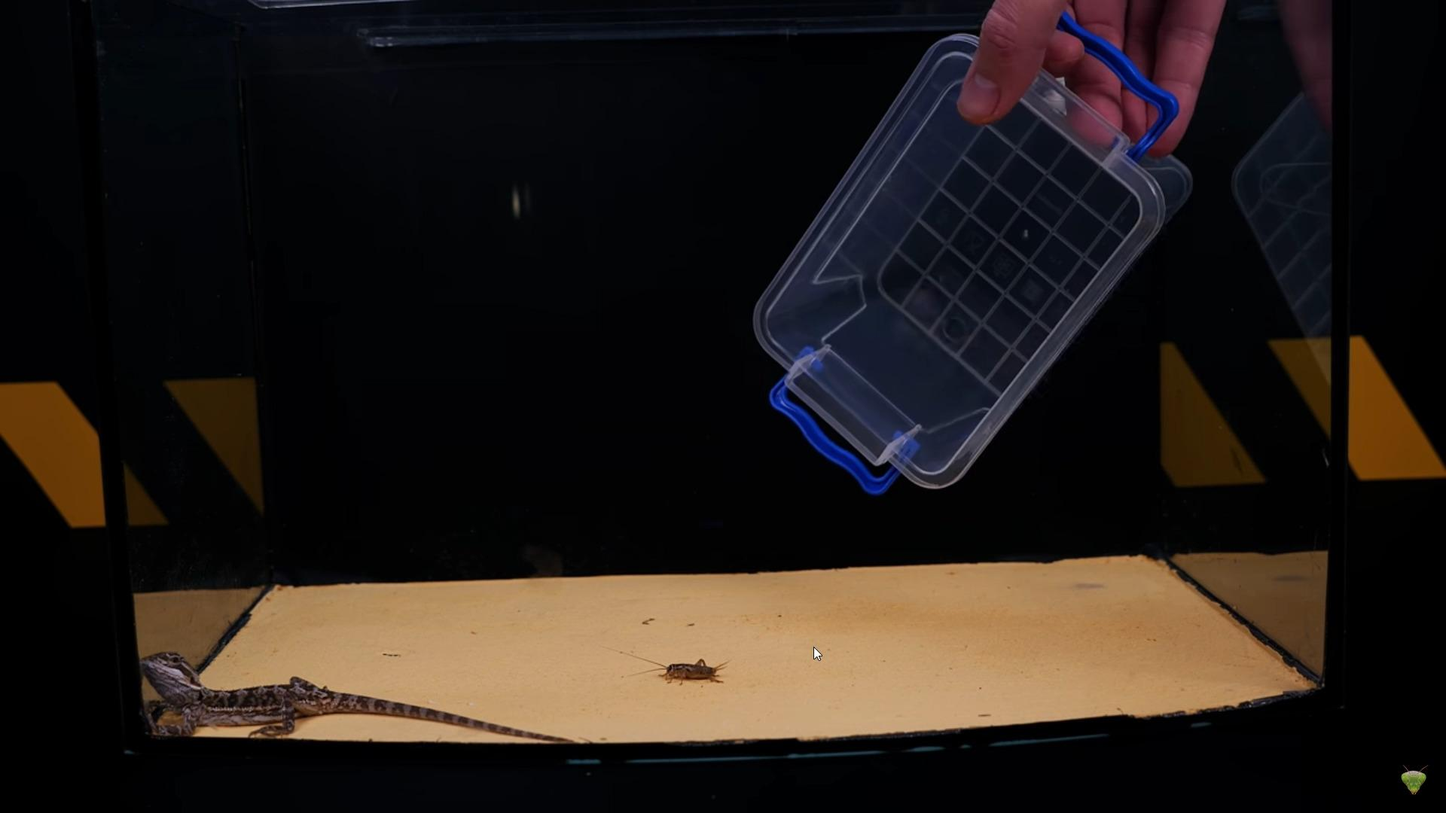cockroach: (642, 656, 730, 686)
lizard: (130, 645, 497, 740)
